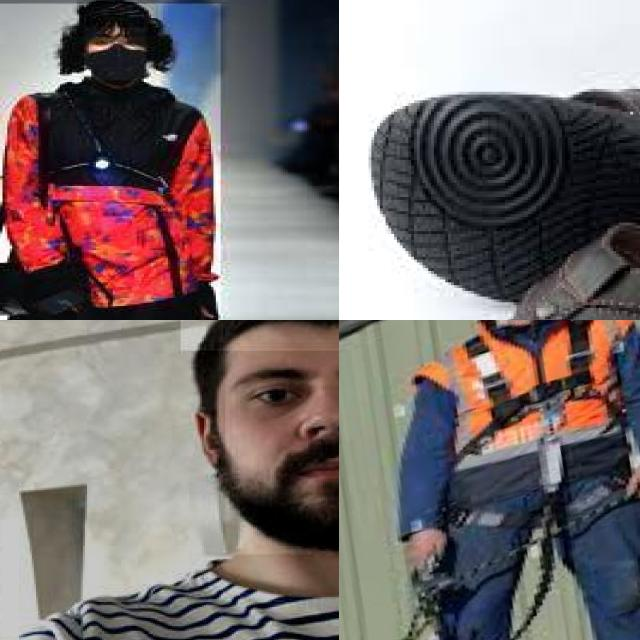Harness: (451, 320, 606, 466)
No_Ear-Protection: (179, 402, 239, 471)
No_Glasses: (221, 347, 339, 429)
Sandals: (340, 42, 640, 320)
face_mask: (84, 28, 149, 82)
face_nomask: (225, 351, 339, 554)
head_nohelmet: (180, 320, 339, 350), (77, 0, 161, 37)
person: (0, 320, 339, 640), (0, 3, 223, 320)
